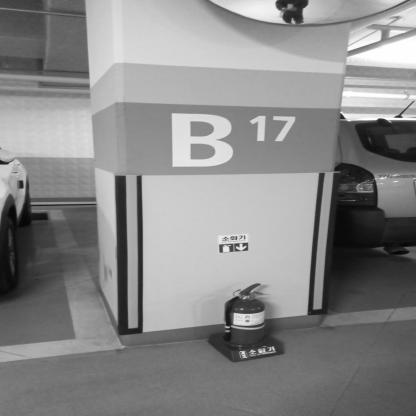FE: (206, 282, 285, 364)
